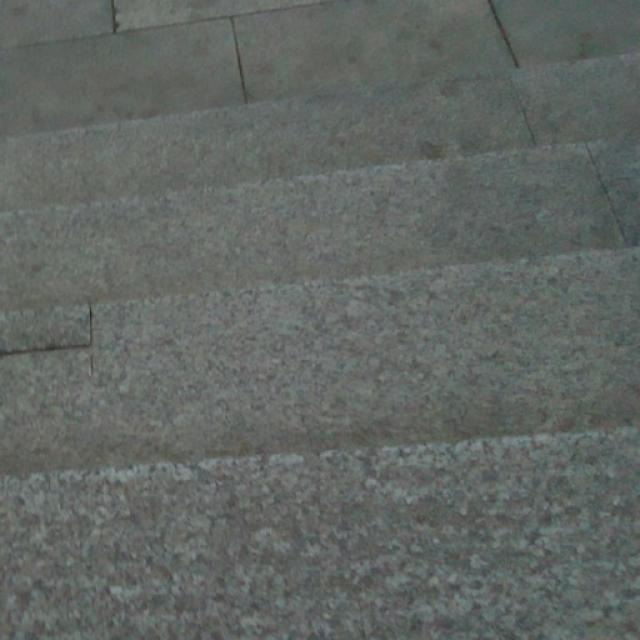stair: (16, 98, 640, 582)
